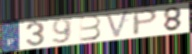3: (24, 20, 45, 47)
8: (162, 6, 184, 33)
9: (51, 18, 75, 44)
B: (78, 14, 103, 43)
P: (132, 8, 160, 37)
V: (105, 9, 131, 40)
